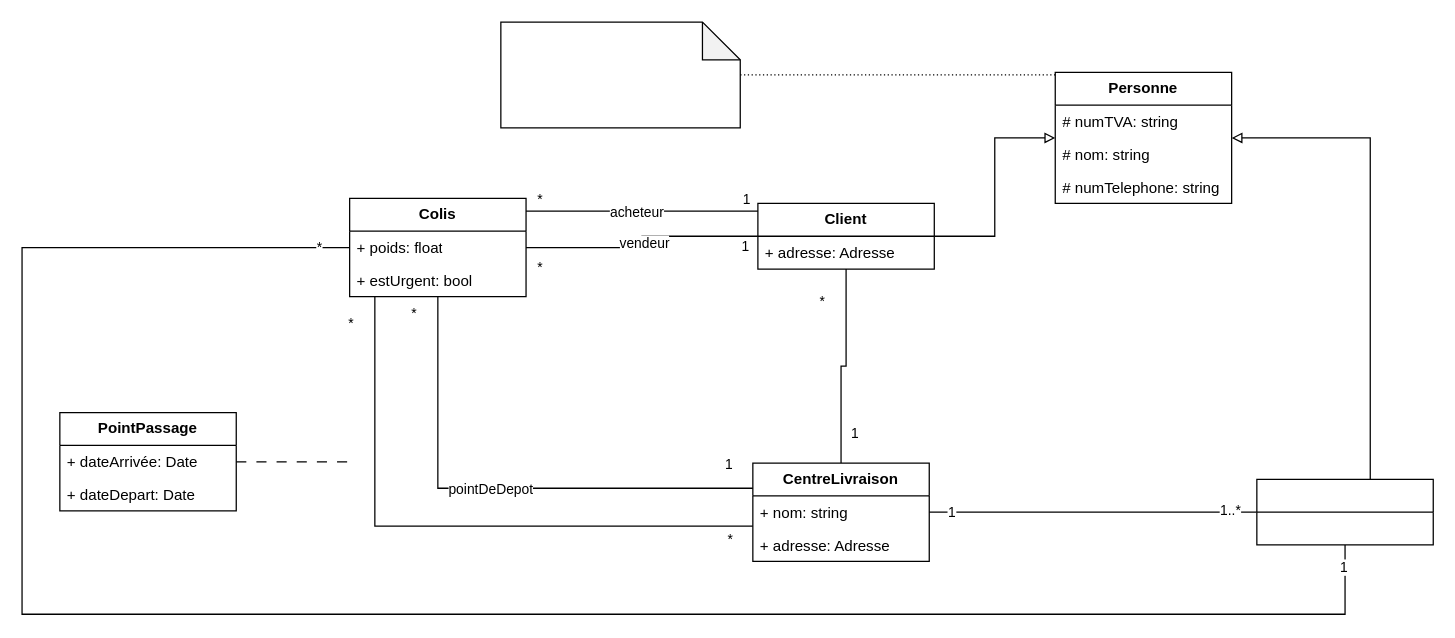
The diagram is 1455 pixels wide and 638 high, and some of its shapes have lost their labels. Here are the shapes that lost their labels. From the top down, the centre of each, then its label:
At pixel 620 74: "le numéro de TVA est l'Id".
At pixel 1344 511: "Coursier".
